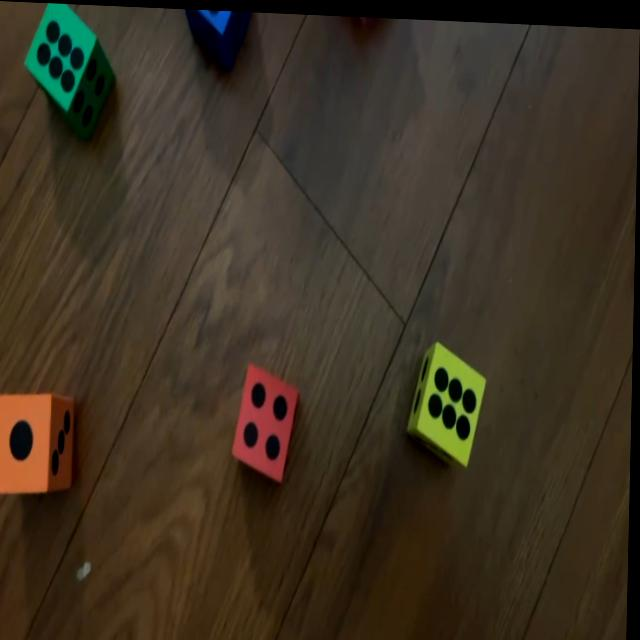cube: (23, 1, 117, 139), (235, 359, 301, 480), (182, 7, 248, 67)
